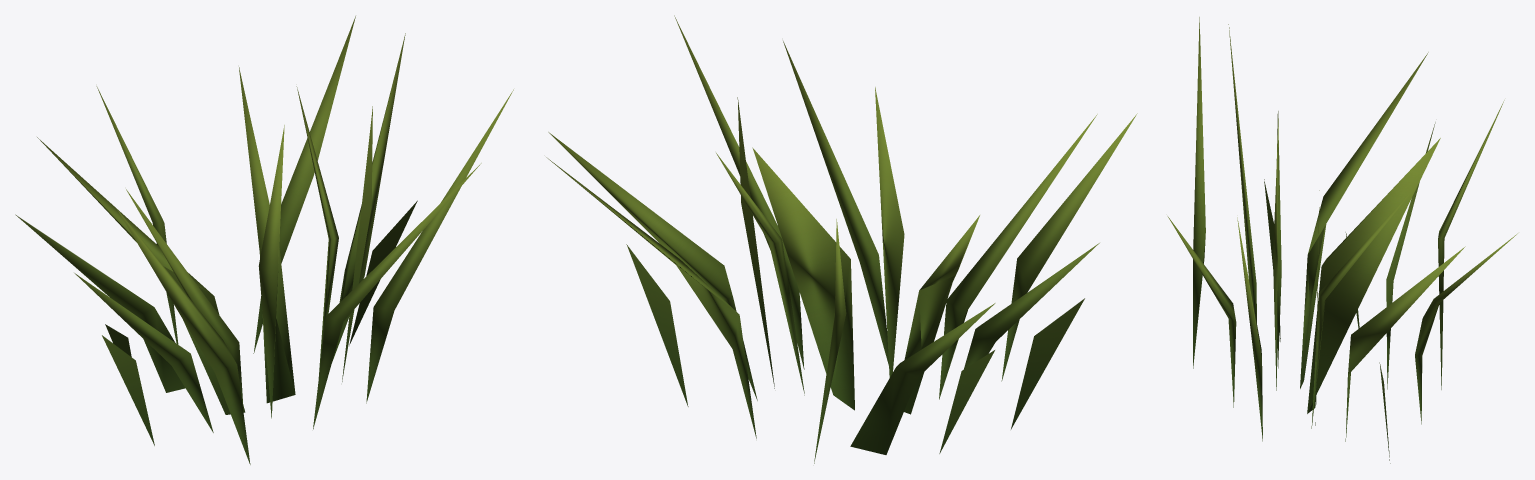
File: testgrass.obj
3 views of the same model, side by side, from view 1: azimuth 30°, elevation 25°; view 2: azimuth 150°, elevation 25°; view 3: azimuth 270°, elevation 25° (orthographic). The views are drawn at different scales.
Parts seen in each view (by area): view 1: Grass_Large_Extruded; view 2: Grass_Large_Extruded; view 3: Grass_Large_Extruded.
Boxes of the visible parts, x1,y1,x2,y2 form: Grass_Large_Extruded: [15, 16, 513, 464]; Grass_Large_Extruded: [546, 15, 1137, 463]; Grass_Large_Extruded: [1167, 17, 1517, 463].
Size of the model in its own units: 0.6673 by 0.4392 by 0.4762.
